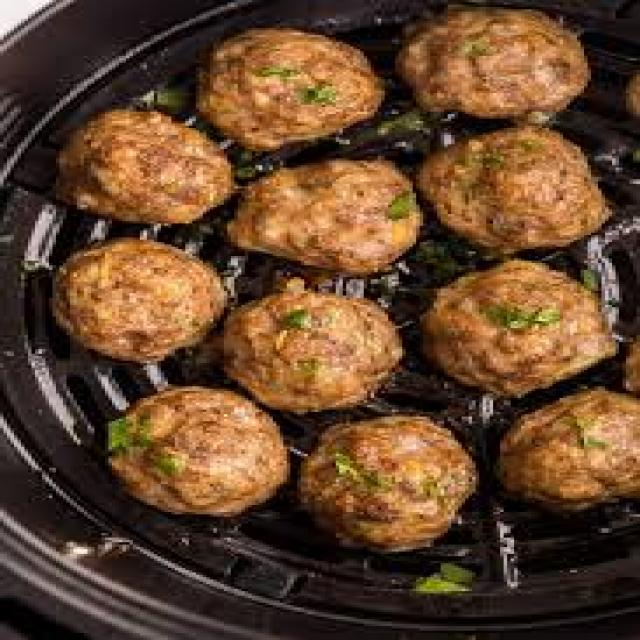Meatball: (414, 258, 640, 402), (280, 414, 486, 560), (408, 125, 622, 254), (203, 282, 409, 416), (99, 380, 298, 518), (215, 156, 432, 276), (182, 22, 390, 146), (390, 6, 597, 125), (45, 106, 243, 230), (40, 239, 233, 361), (487, 381, 640, 525)
